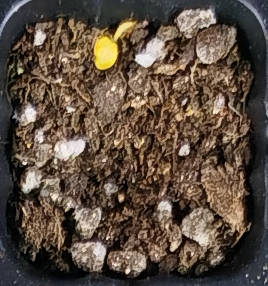chilli seed: (92, 35, 118, 69), (113, 21, 133, 42)
